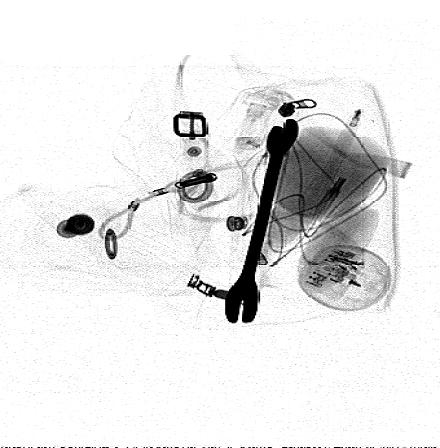Wrench: (224, 118, 298, 323)
